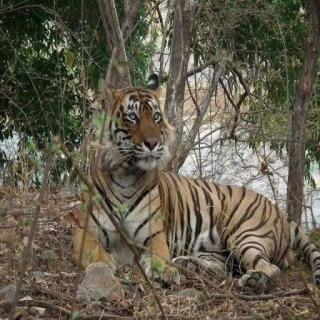Tiger: (61, 65, 319, 292)
